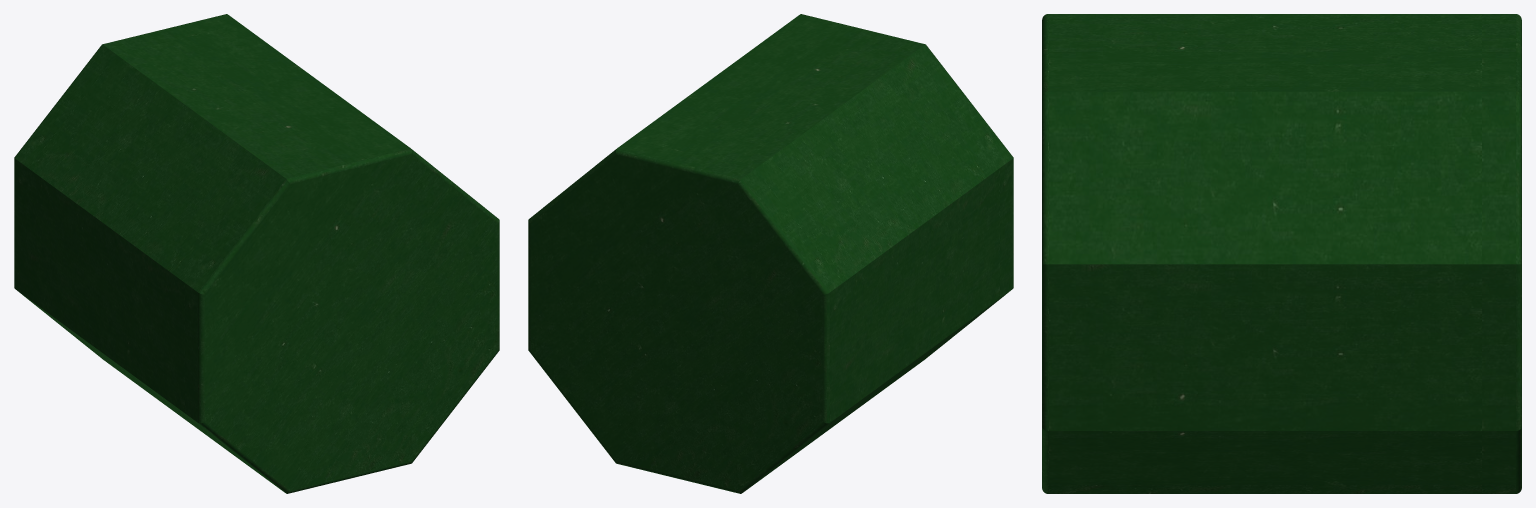
The model's file is octagon.glb.
3 views of the same model, side by side, from view 1: azimuth 30°, elevation 25°; view 2: azimuth 150°, elevation 25°; view 3: azimuth 270°, elevation 25° (orthographic). The views are drawn at different scales.
Parts seen in each view (by area): view 1: octagon_2; view 2: octagon_2; view 3: octagon_2.
Part boxes in pixels (left/top/right/bottom): octagon_2: left=14, top=14, right=499, bottom=493; octagon_2: left=528, top=14, right=1013, bottom=493; octagon_2: left=1042, top=14, right=1521, bottom=493.
Size of the model in its own units: 0.037 by 0.037 by 0.04.
Materials: 1 (1 with a texture image).
